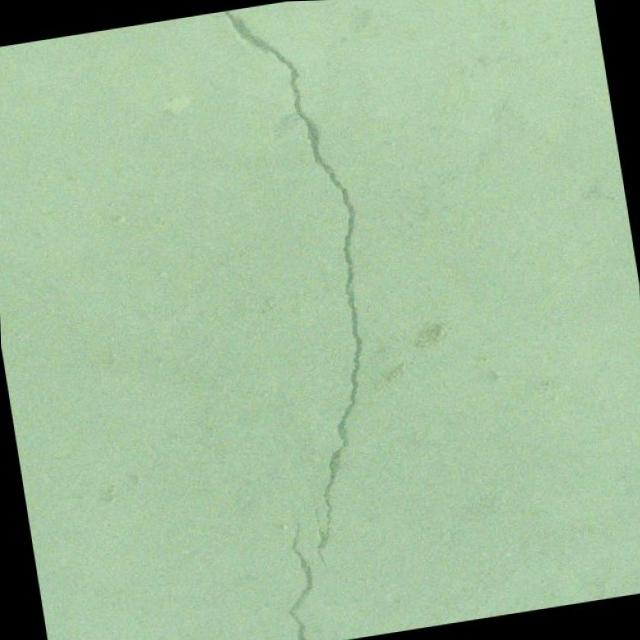crack: (208, 0, 410, 579), (274, 522, 321, 640)
